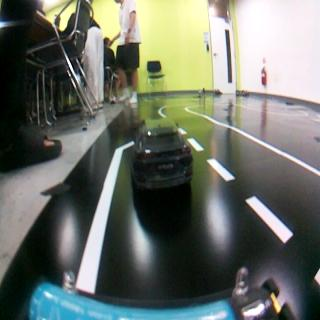car: (132, 121, 194, 188)
